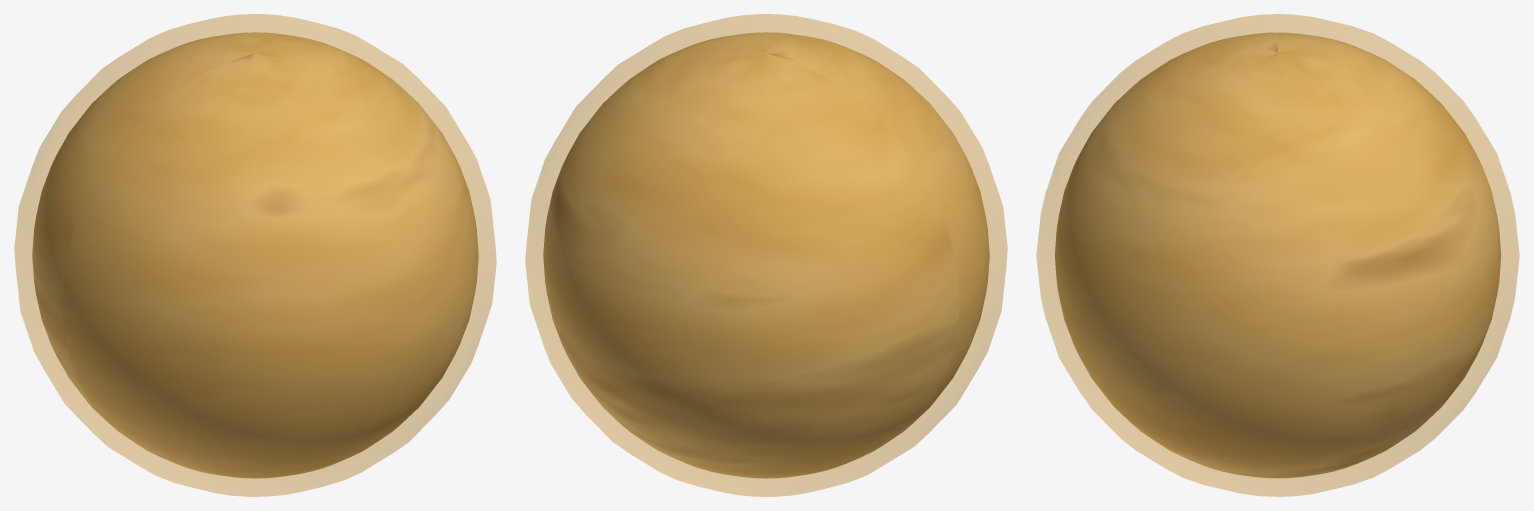
The model's file is titan.glb.
3 views of the same model, side by side, from view 1: azimuth 30°, elevation 25°; view 2: azimuth 150°, elevation 25°; view 3: azimuth 270°, elevation 25° (orthographic).
Parts seen in each view (by area): view 1: atmosphere, surface; view 2: atmosphere, surface; view 3: atmosphere, surface.
Part boxes in pixels (x1,y1,x2,y2): atmosphere: [14, 14, 496, 496]; surface: [32, 32, 478, 478]; atmosphere: [525, 14, 1007, 496]; surface: [543, 32, 989, 478]; atmosphere: [1036, 14, 1519, 496]; surface: [1054, 32, 1501, 478].
Size of the model in its own units: 2.82 by 2.82 by 2.82.
Materials: 2 (1 with a texture image).
